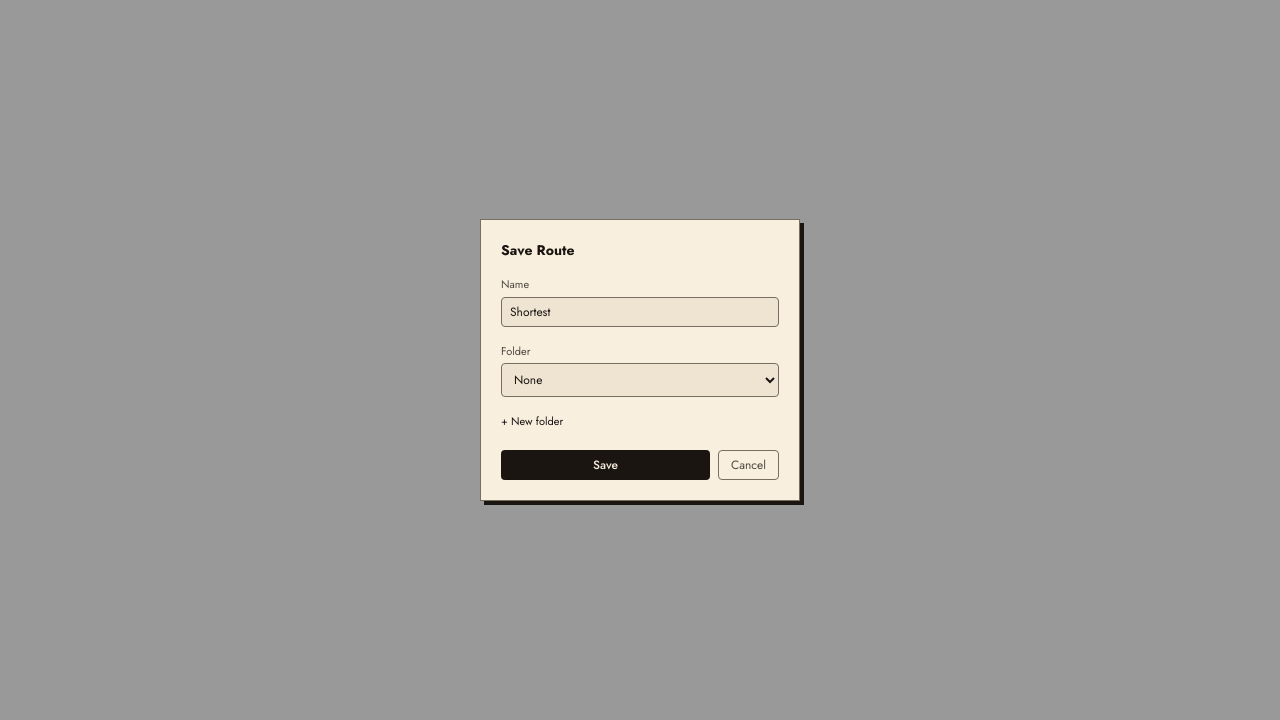
Test: SaveRouteModal when storage refuses the write › clears the warning once a later write succeeds
The width and height of the screenshot is (1280, 720).
Click the button "+ New folder": x=532, y=422 x1=501 y1=413 x2=563 y2=430
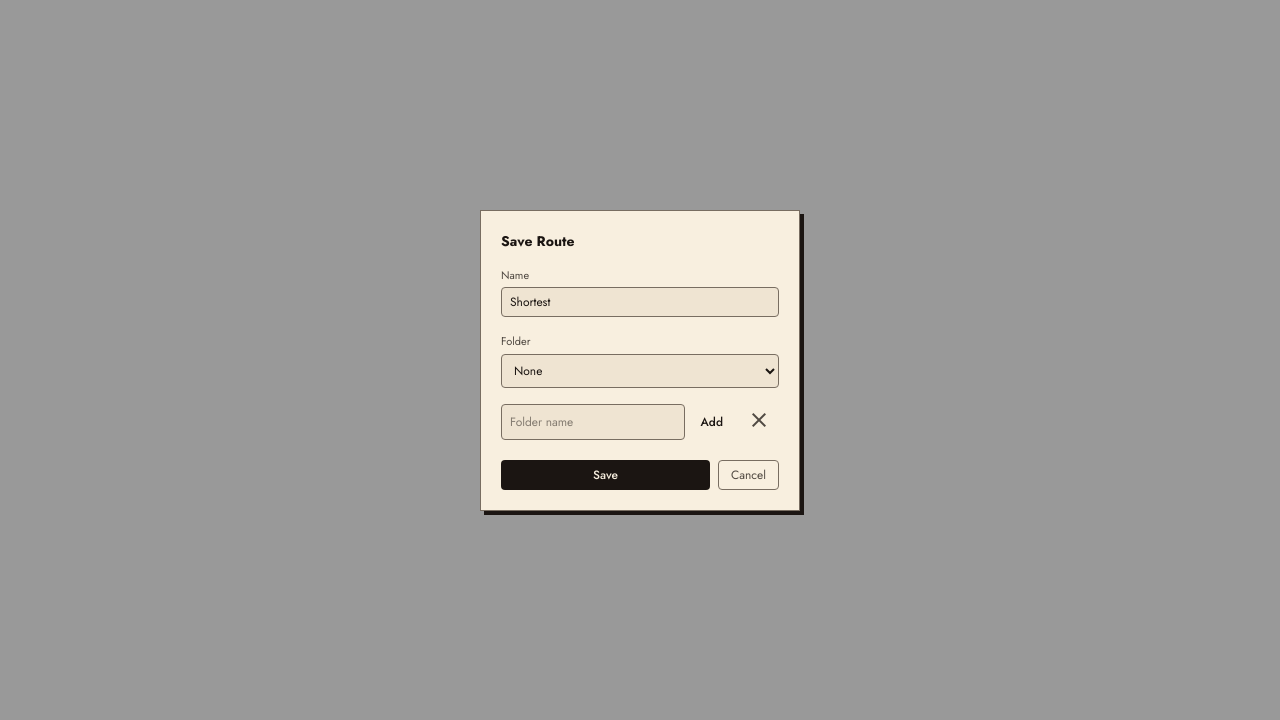
In the field with placeholder "Folder name": x=593, y=422 x1=501 y1=404 x2=685 y2=440, type "Summer"
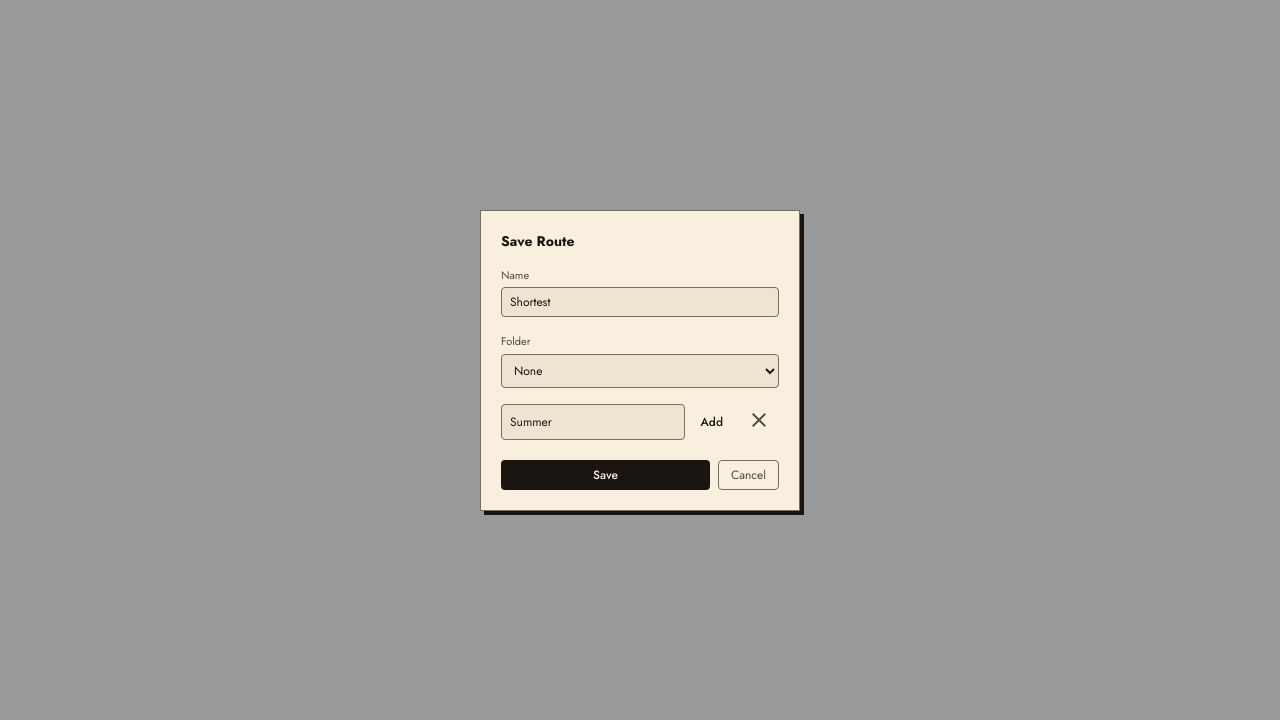
Click the button "Add": x=712, y=422 x1=693 y1=404 x2=731 y2=440
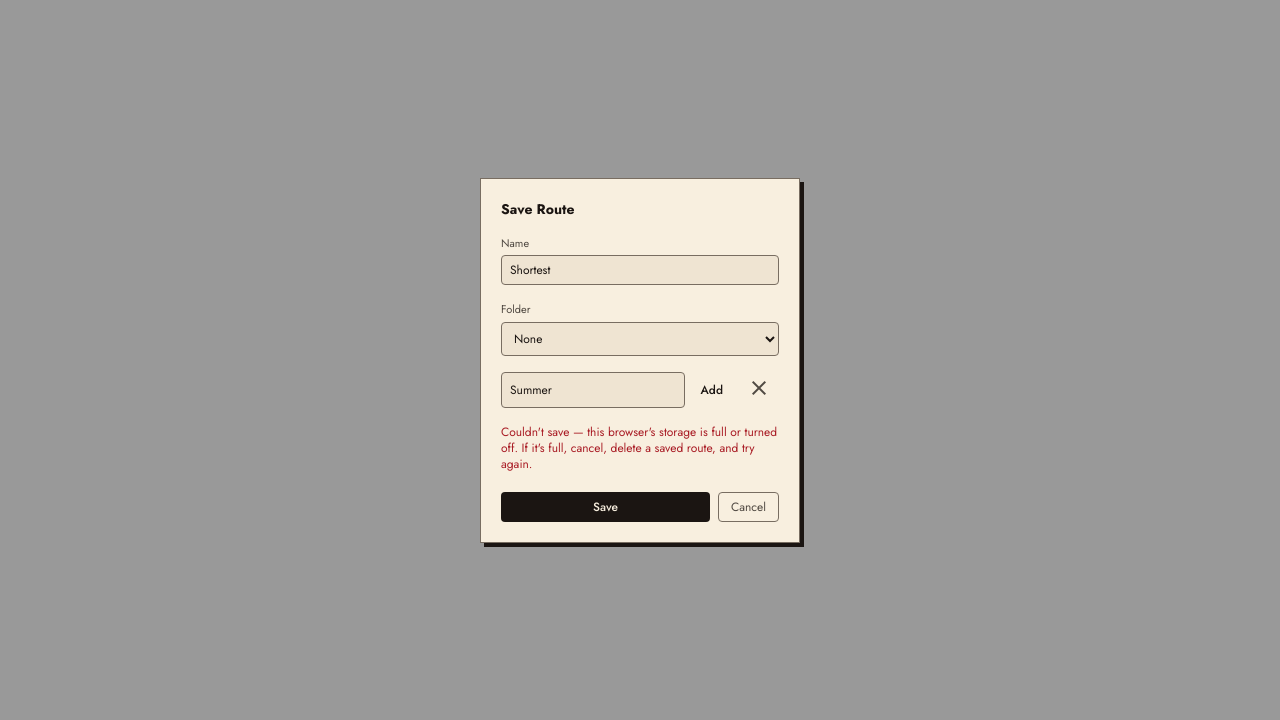
Expected: the message is shown, x1=501 y1=424 x2=779 y2=472
Click the button "Add": x=712, y=390 x1=693 y1=372 x2=731 y2=408
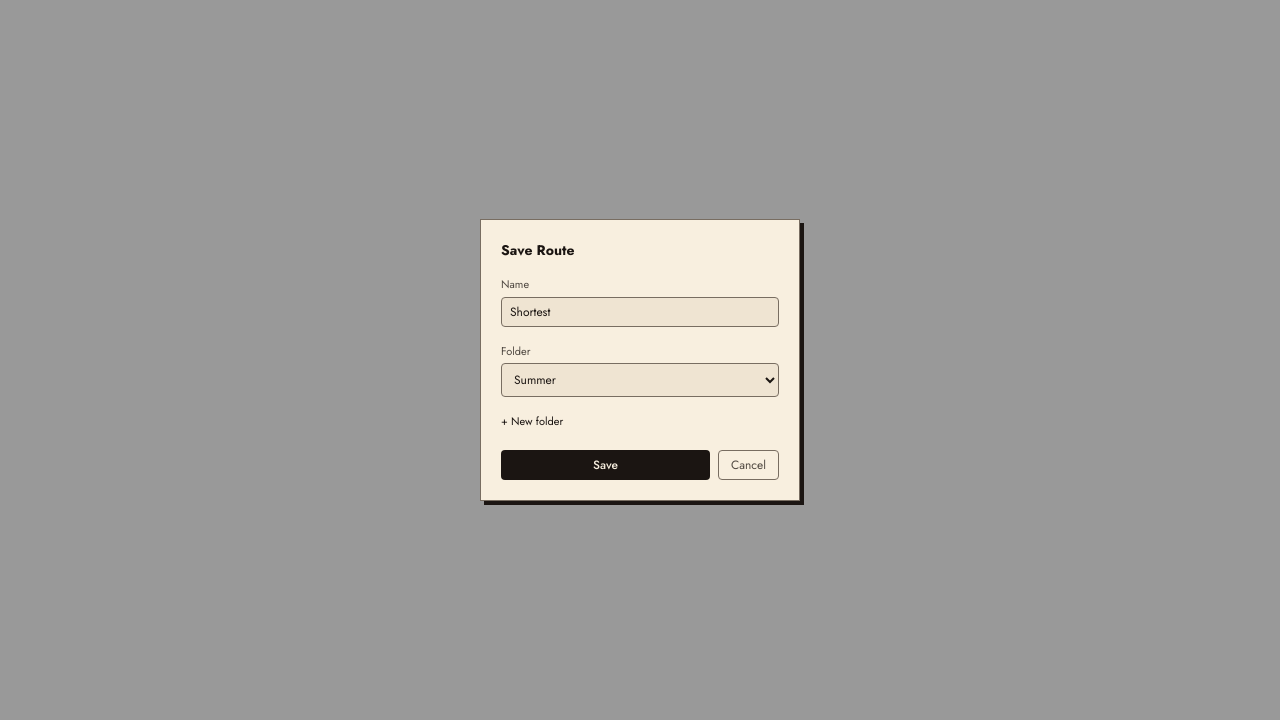
Expected: the message is gone
